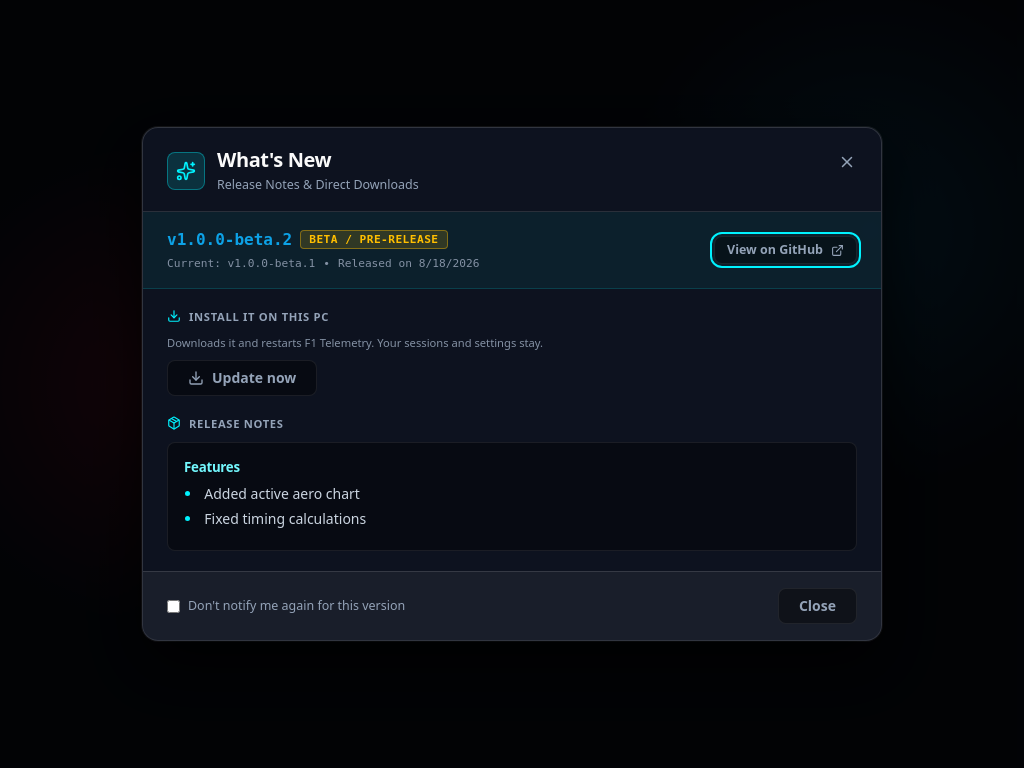
ReleaseNotesModal › on the PC running a release build › installs the update instead of listing downloads
The width and height of the screenshot is (1024, 768).
Expected: the heading "Install it on this PC" is shown, [167,309,329,324]
Click the button "Update now": (242, 378) [167,360,317,396]
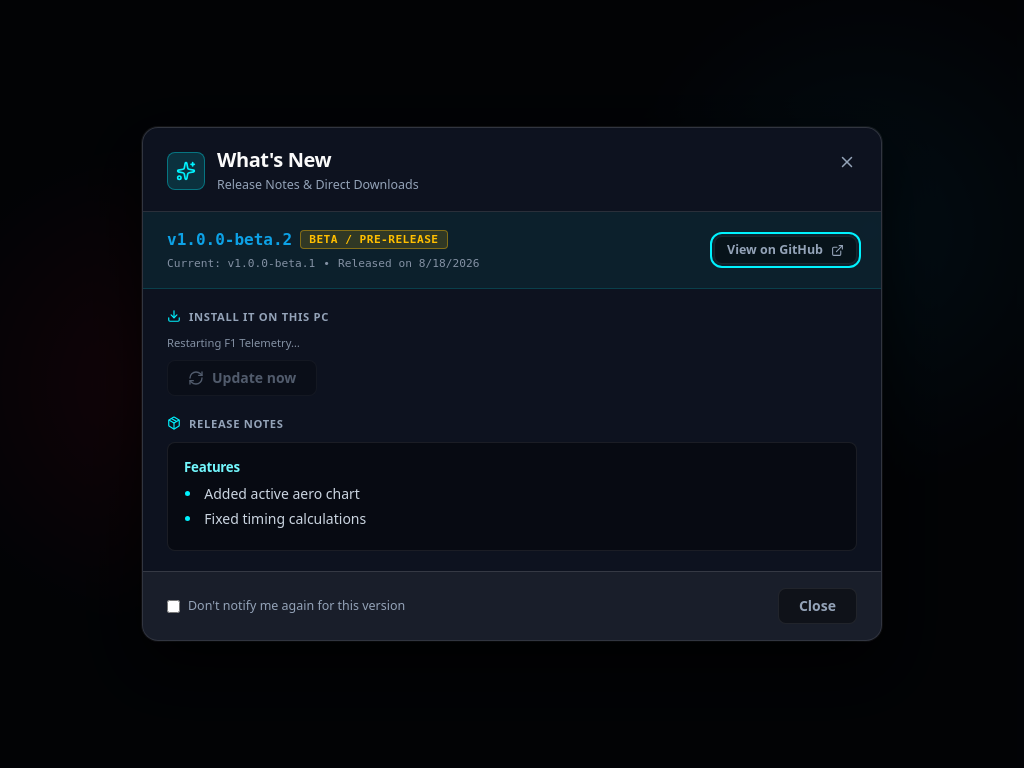
Expected: the text "Restarting F1 Telemetry…" is shown, [167,336,300,352]
